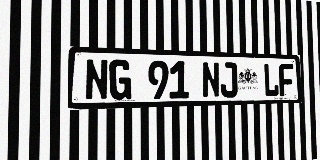1: (169, 61, 189, 99)
9: (148, 60, 169, 99)
F: (279, 64, 294, 96)
G: (109, 59, 131, 100)
J: (220, 62, 238, 98)
L: (263, 63, 279, 97)
N: (85, 59, 108, 101), (202, 62, 220, 98)
